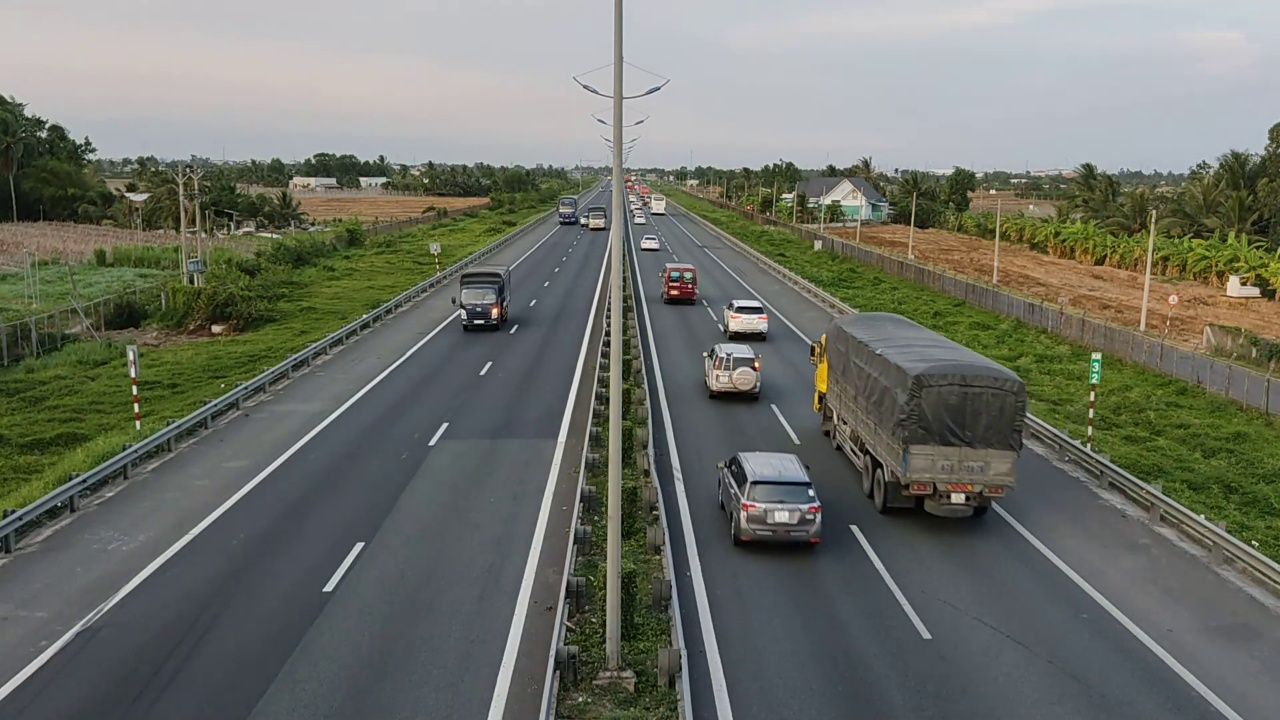bus: (816, 311, 1028, 519)
car: (715, 450, 824, 547), (701, 342, 761, 399), (722, 298, 769, 339), (660, 263, 698, 305), (641, 233, 661, 251)
truck: (815, 311, 1028, 521), (459, 264, 511, 331)
